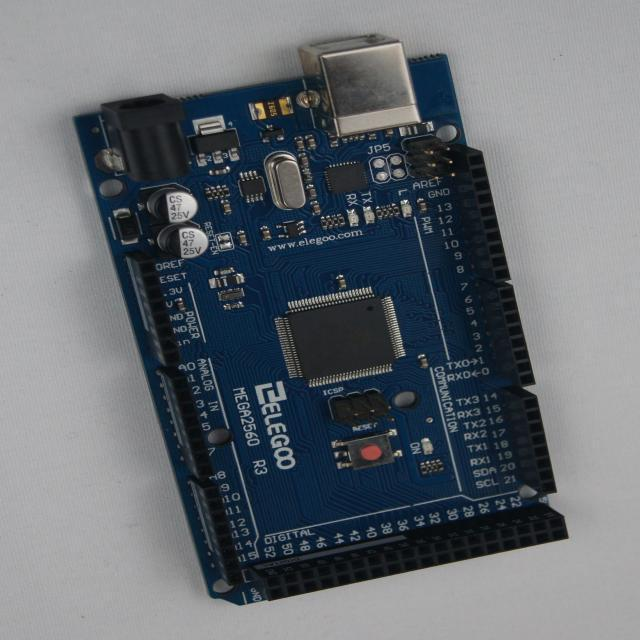Arduino Mega 2560 -Blue-: (76, 35, 568, 605)
